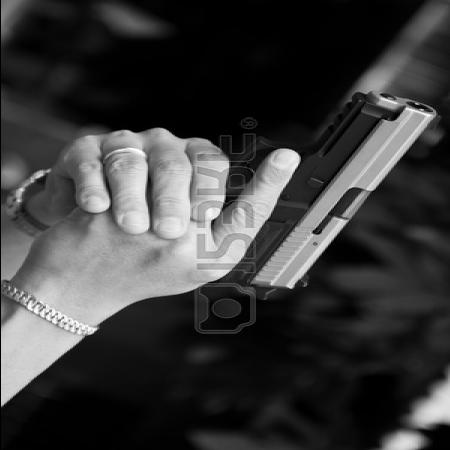Pistol: (162, 83, 442, 291)
